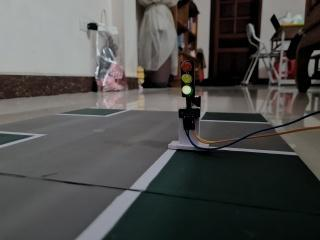green: (167, 51, 209, 108)
